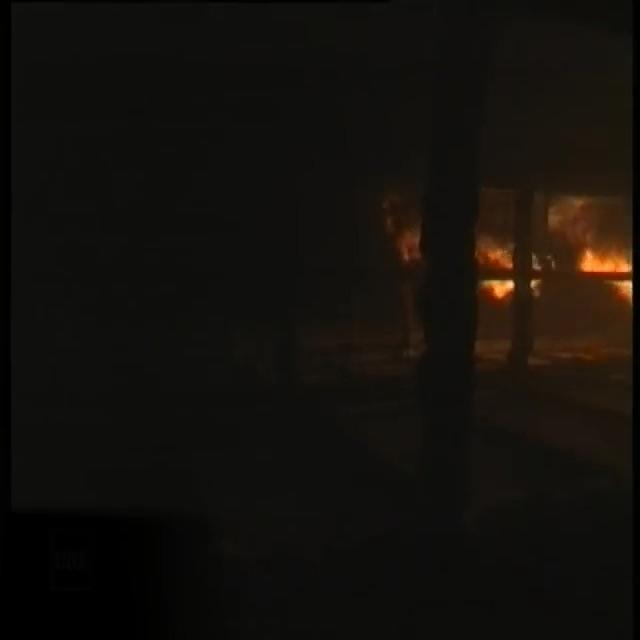Fire: (358, 143, 629, 360)
